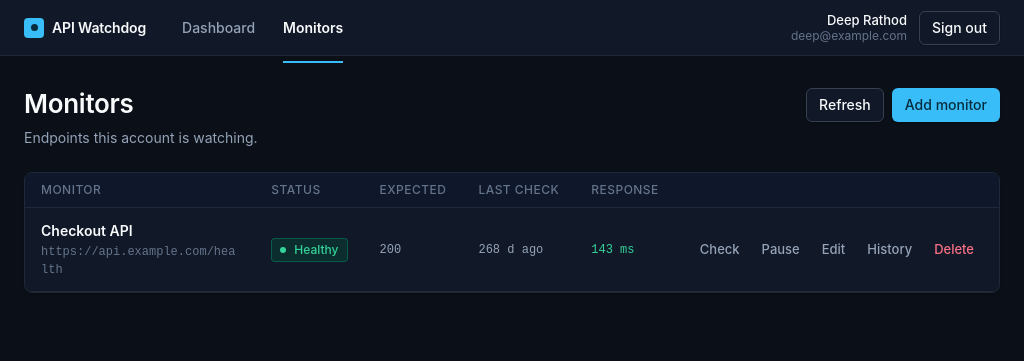
Test: manual check › reports an unreachable API without inventing a check result
Expected: the text "Checkout API" is shown, [41, 222, 133, 239]
Click the button with aria-label "Check Checkout API now": (720, 250) [691, 236, 749, 264]
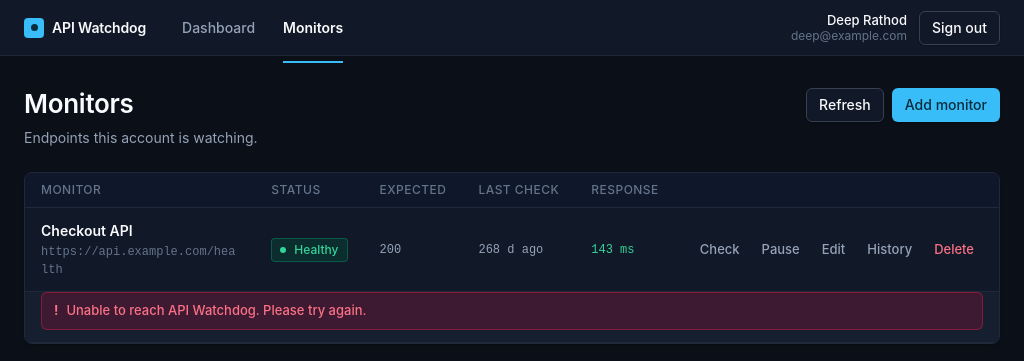
Expected: the message shows "Unable to reach API Watchdog", [66, 302, 366, 318]
